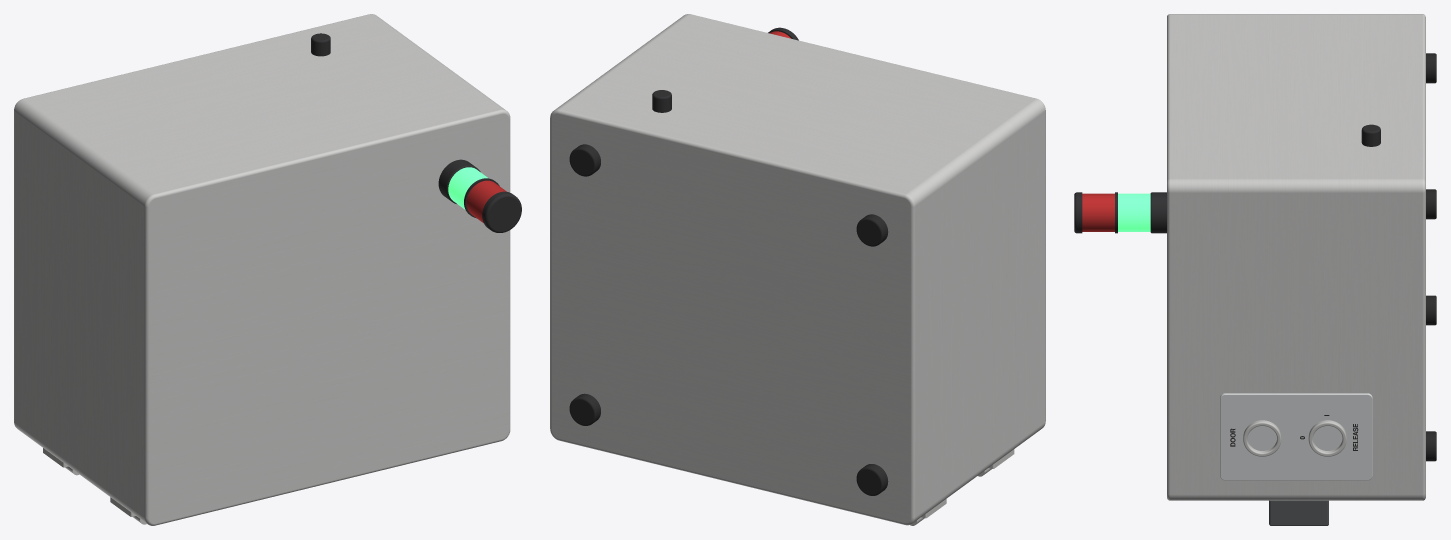
Rendered from Cell01__Stations__H4_Quarantine__Body.glb.
3 views of the same model, side by side, from view 1: azimuth 30°, elevation 25°; view 2: azimuth 150°, elevation 25°; view 3: azimuth 270°, elevation 25° (orthographic). The views are drawn at different scales.
Visible parts, largest first — view 1: /World/Cell01/Stations/H4_Quarantine/Body/Visual/Housing/Cab, /World/Cell01/Stations/H4_Quarantine/Body/Visual, /World/Cell01/Stations/H4_Quarantine/Body/Visual/StatusLight (×2); view 2: /World/Cell01/Stations/H4_Quarantine/Body/Visual/Housing/Cab, /World/Cell01/Stations/H4_Quarantine/Body/Visual/Housing, /World/Cell01/Stations/H4_Quarantine/Body/Visual; view 3: /World/Cell01/Stations/H4_Quarantine/Body/Visual/Housing/Cab, /World/Cell01/Stations/H4_Quarantine/Body/Visual/Panel/Panel, /World/Cell01/Stations/H4_Quarantine/Body/Visual (×3), /World/Cell01/Stations/H4_Quarantine/Body/Visual/StatusLight (×2), /World/Cell01/Stations/H4_Quarantine/Body/Visual/Housing.
Part boxes in pixels (bbox=[...]): /World/Cell01/Stations/H4_Quarantine/Body/Visual/Housing/Cab: bbox=[14, 14, 510, 525]; /World/Cell01/Stations/H4_Quarantine/Body/Visual: bbox=[311, 33, 521, 232]; /World/Cell01/Stations/H4_Quarantine/Body/Visual/StatusLight (×2): bbox=[448, 167, 506, 223]; /World/Cell01/Stations/H4_Quarantine/Body/Visual/Housing/Cab: bbox=[550, 14, 1045, 525]; /World/Cell01/Stations/H4_Quarantine/Body/Visual/Housing: bbox=[569, 144, 888, 495]; /World/Cell01/Stations/H4_Quarantine/Body/Visual: bbox=[652, 27, 798, 112]; /World/Cell01/Stations/H4_Quarantine/Body/Visual/Housing/Cab: bbox=[1167, 14, 1425, 500]; /World/Cell01/Stations/H4_Quarantine/Body/Visual/Panel/Panel: bbox=[1220, 393, 1372, 480]; /World/Cell01/Stations/H4_Quarantine/Body/Visual (×3): bbox=[1074, 124, 1380, 525]; /World/Cell01/Stations/H4_Quarantine/Body/Visual/StatusLight (×2): bbox=[1082, 193, 1150, 231]; /World/Cell01/Stations/H4_Quarantine/Body/Visual/Housing: bbox=[1426, 53, 1436, 461].
Size of the model in its own units: 0.306 by 0.294 by 0.266.
Materials: 11 (1 with a texture image).
